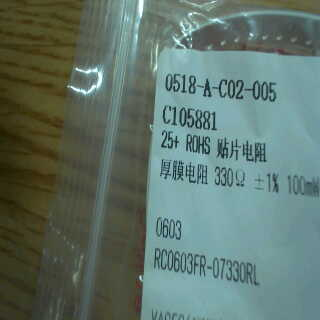330R: (211, 164, 249, 191)
